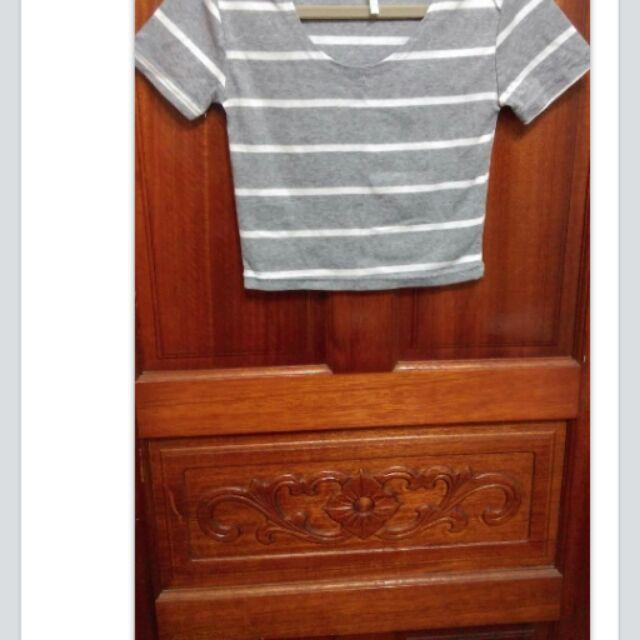Tops: (141, 1, 590, 290)
